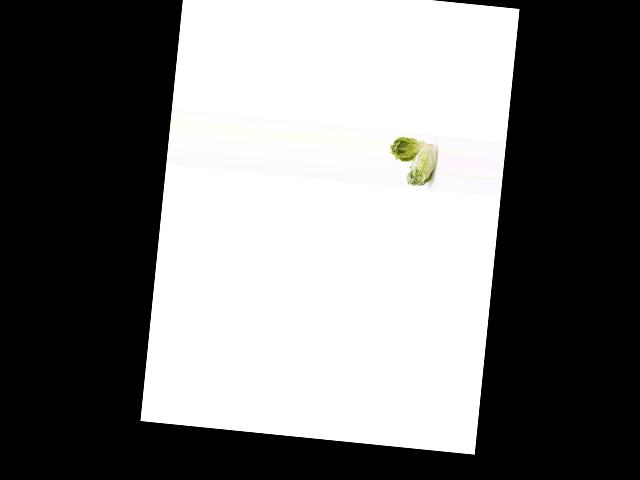lettuce: (403, 138, 439, 190)
